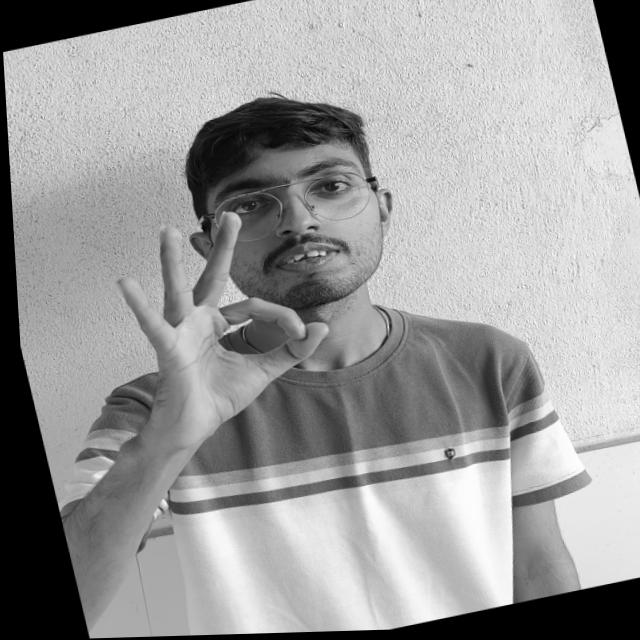Superb: (62, 190, 352, 464)
